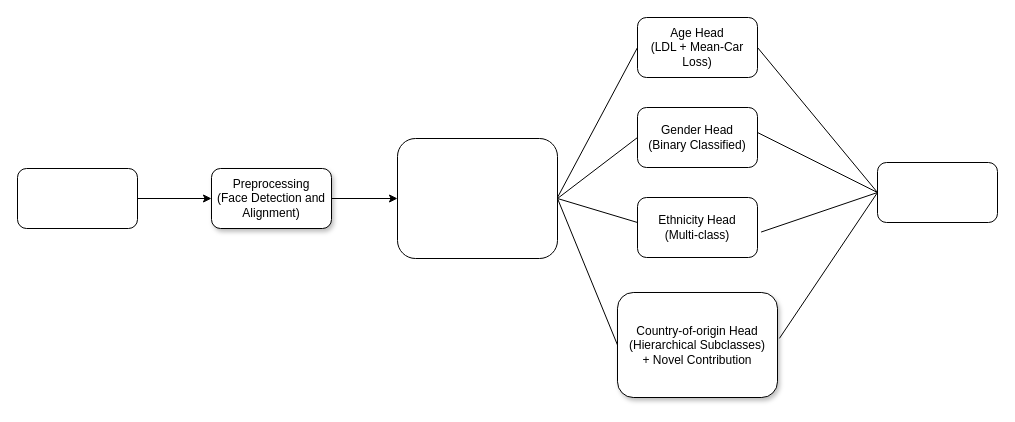
This 1015x422 diagram has some shape labels left out. Here are the shapes that lost their labels. From the top down, the centre of each, then its label:
point (77, 198): Input Image (224 x 224)
point (477, 198): Shared Backbone (ResNet-50 / VGG19) Feature Extraction
point (937, 192): Weighted Multi-Task Loss
